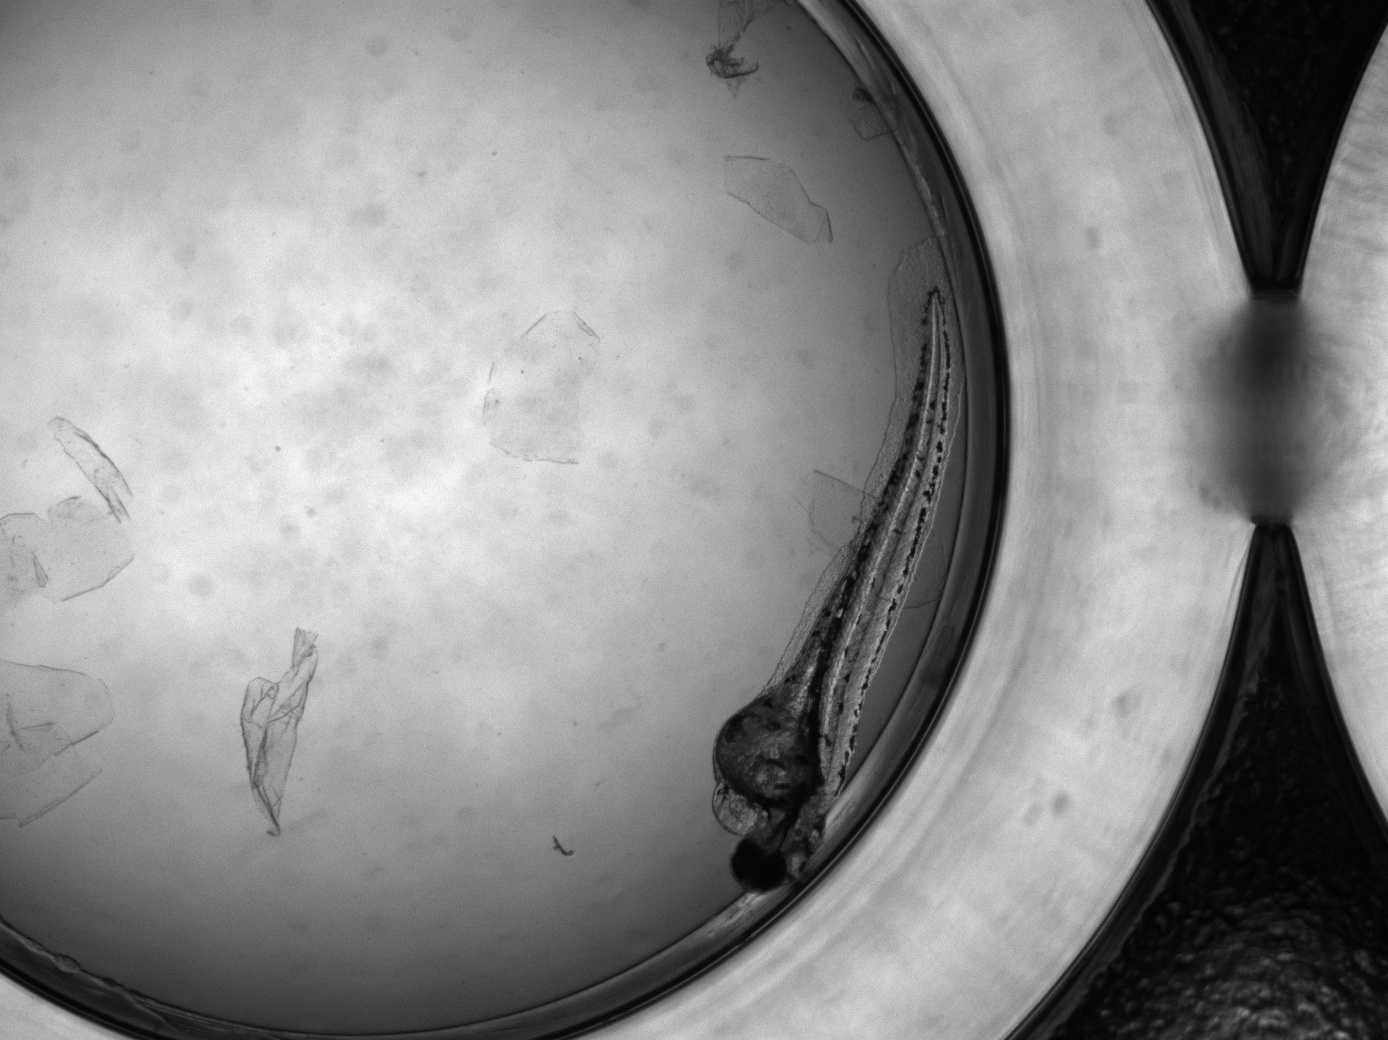debris: (1, 415, 139, 607), (1, 658, 117, 828), (239, 625, 321, 841), (717, 154, 835, 250)
embryo: (711, 284, 956, 896)
eye: (728, 838, 788, 893)
yolksac: (712, 689, 819, 832)
